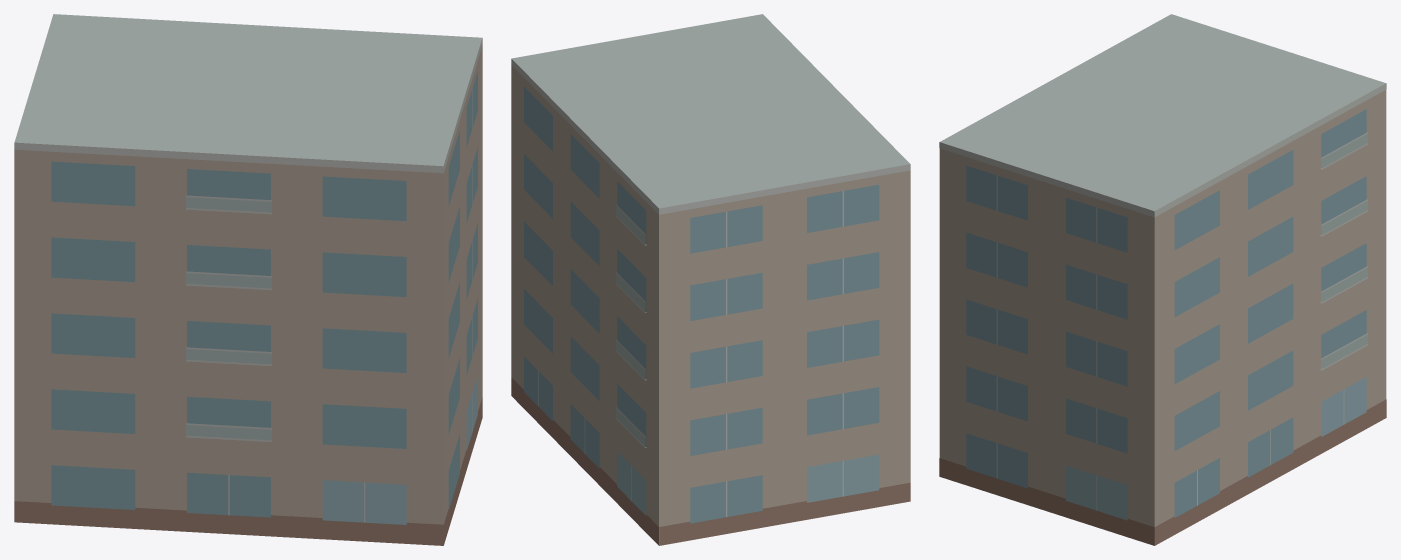
The model's file is survey-upis-32961054.glb.
3 renders of one model, left to right at view 1: azimuth 30°, elevation 25°; view 2: azimuth 150°, elevation 25°; view 3: azimuth 270°, elevation 25°, orthographic. The views are drawn at different scales.
Parts seen in each view (by area): view 1: survey-upis-32961054.tmp; view 2: survey-upis-32961054.tmp; view 3: survey-upis-32961054.tmp.
Part boxes in pixels (x1,y1,x2,y2): survey-upis-32961054.tmp: (14,14,482,545); survey-upis-32961054.tmp: (511,14,910,545); survey-upis-32961054.tmp: (939,14,1386,545).
Size of the model in its own units: 16.7 by 13.2 by 15.98.
